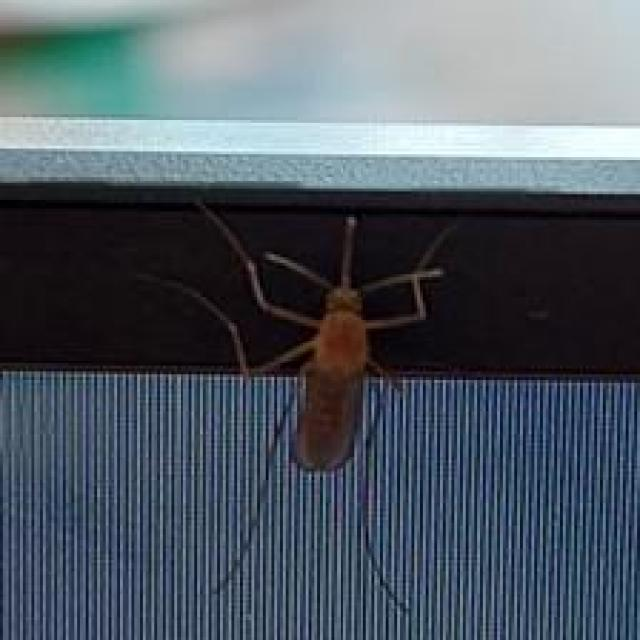Culex: (133, 197, 458, 614)
